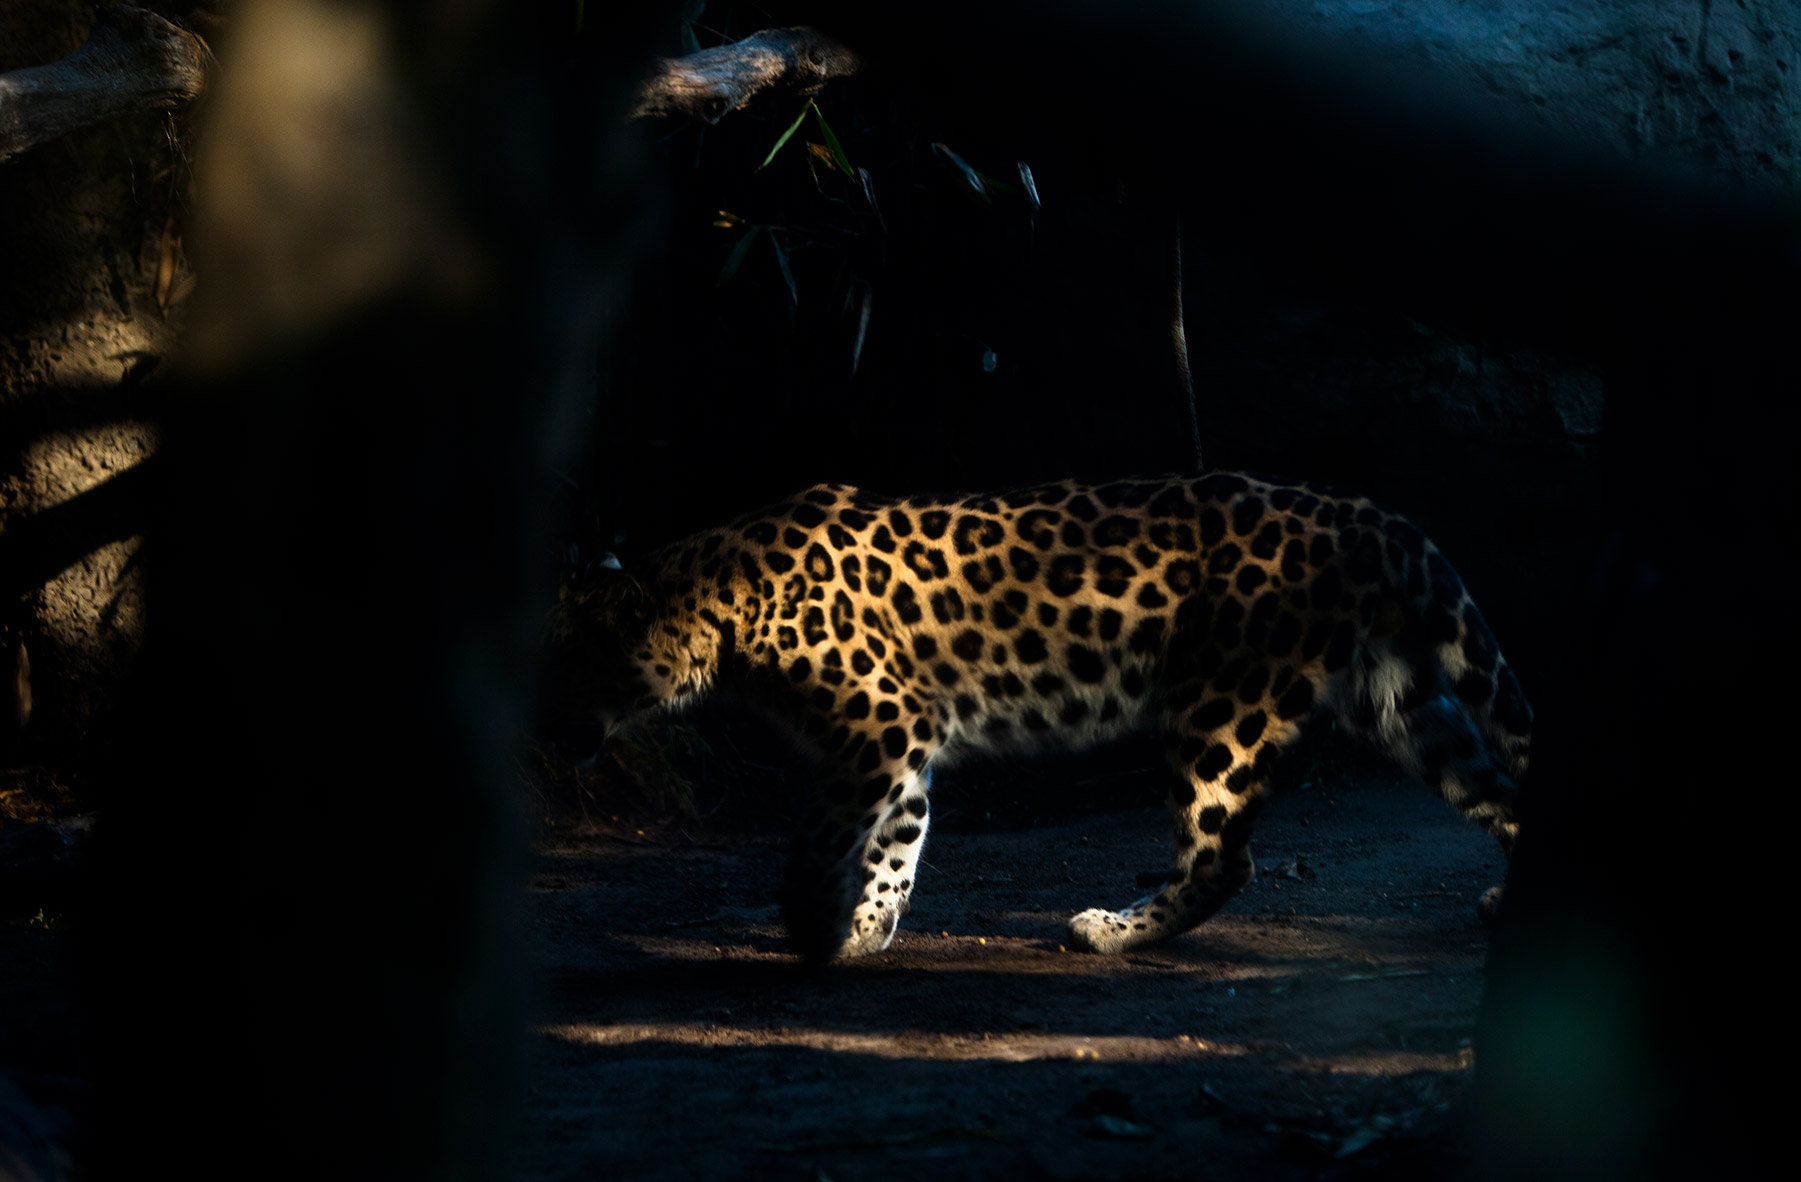amur_leopard: (567, 452, 1550, 962)
